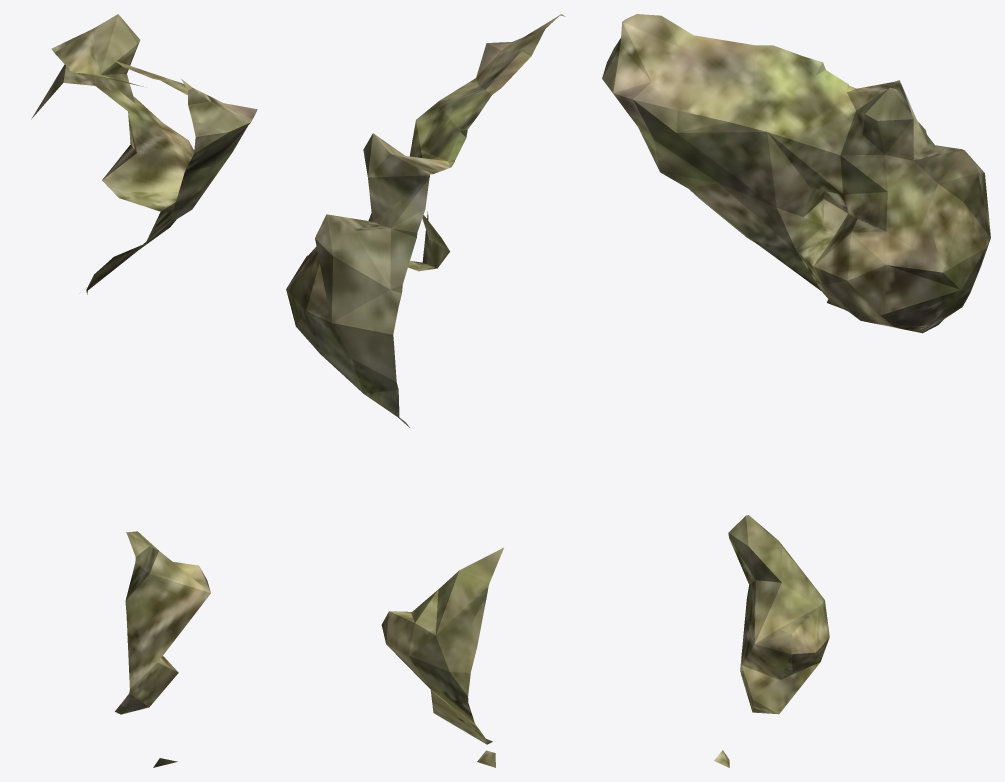
3 views of the same model, side by side, from view 1: azimuth 30°, elevation 25°; view 2: azimuth 150°, elevation 25°; view 3: azimuth 270°, elevation 25° (orthographic).
Bounding box in the file's own units: 0.3721 × 1.98 × 0.9456.
1 material, 1 textured.
